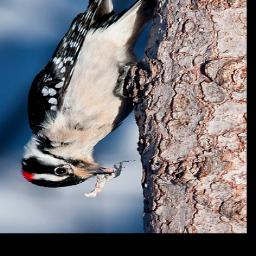Woodpecker: (20, 0, 155, 188)
